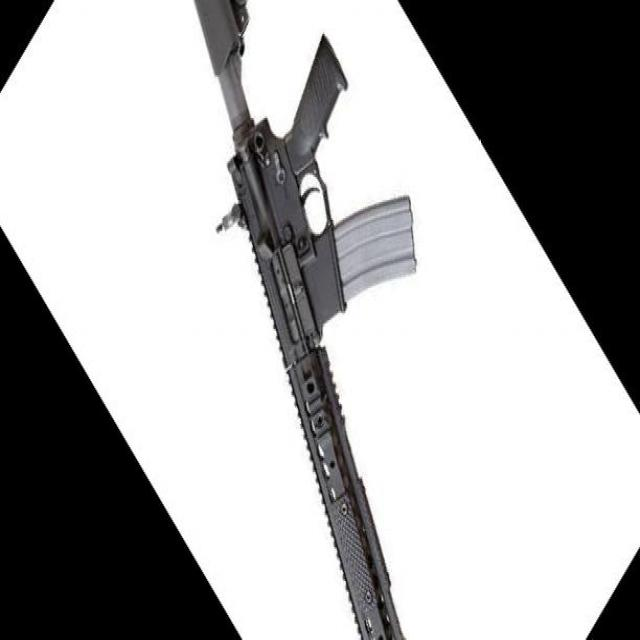heavy-weapon: (194, 0, 418, 640)
